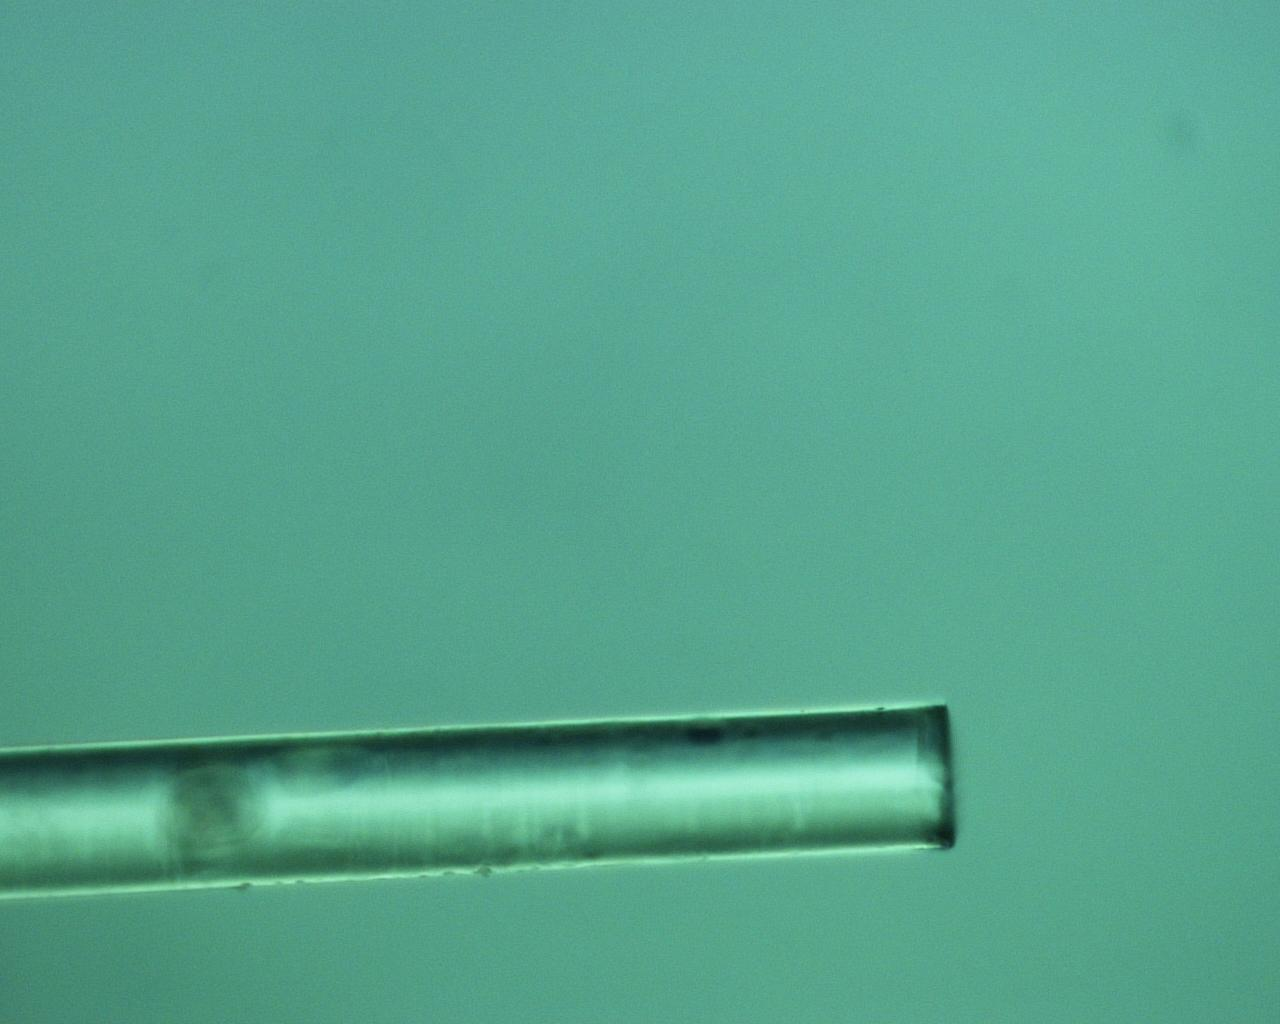fiber: (0, 701, 960, 900)
